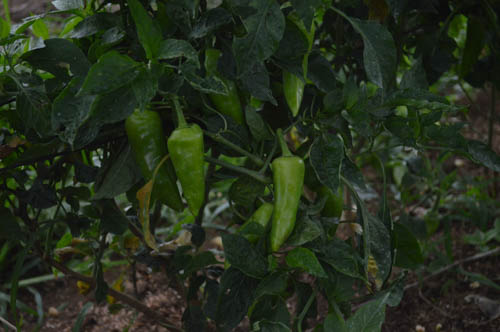ChiliPepper: (129, 113, 181, 211), (279, 14, 318, 117), (169, 126, 207, 215), (269, 155, 303, 247), (205, 49, 244, 121)
